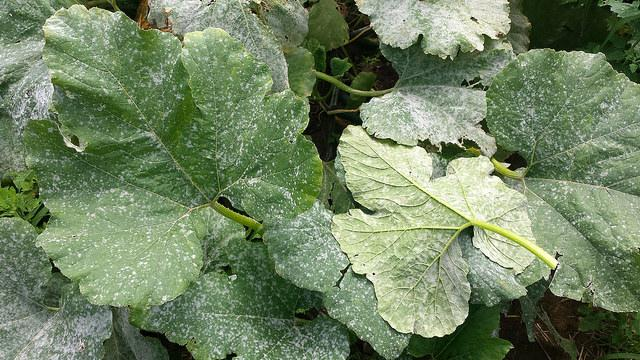Squash Powdery mildew leaf: (34, 1, 327, 305), (329, 120, 540, 344), (487, 39, 640, 313), (356, 1, 518, 152)
